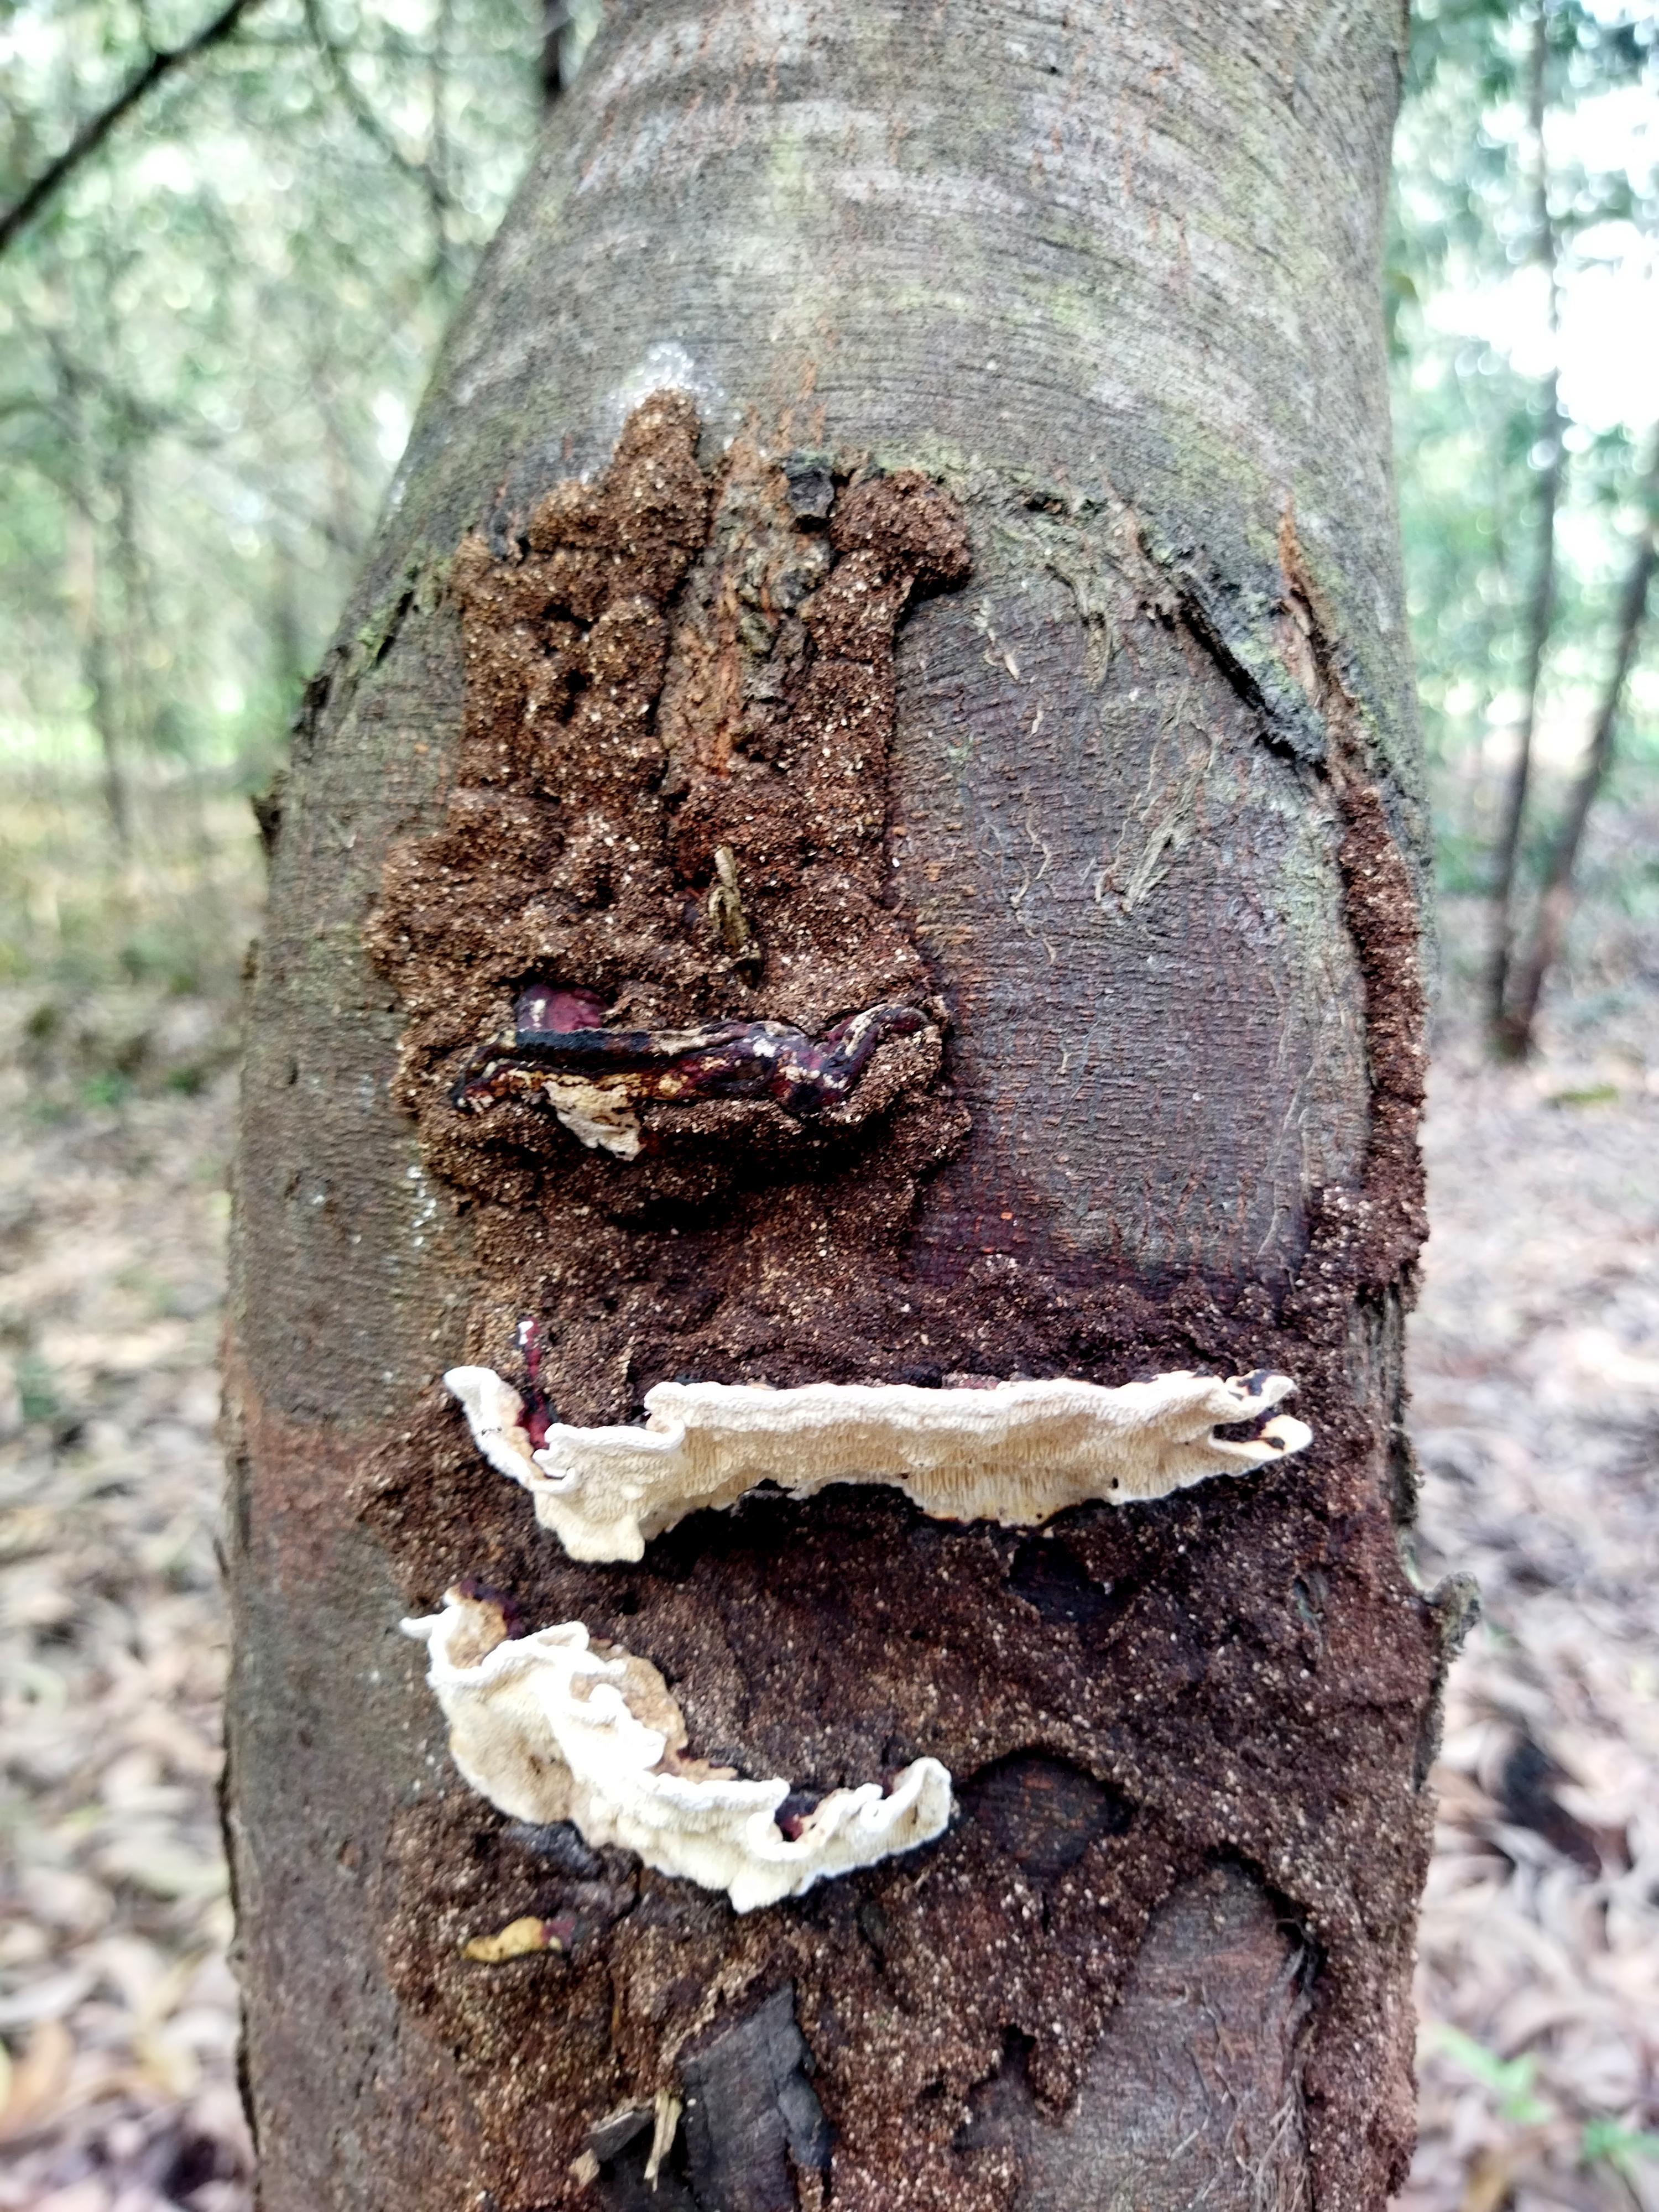Ganoderma - Fruit Body: (432, 1322, 1342, 1517), (410, 1599, 971, 1893), (471, 1014, 925, 1141)
